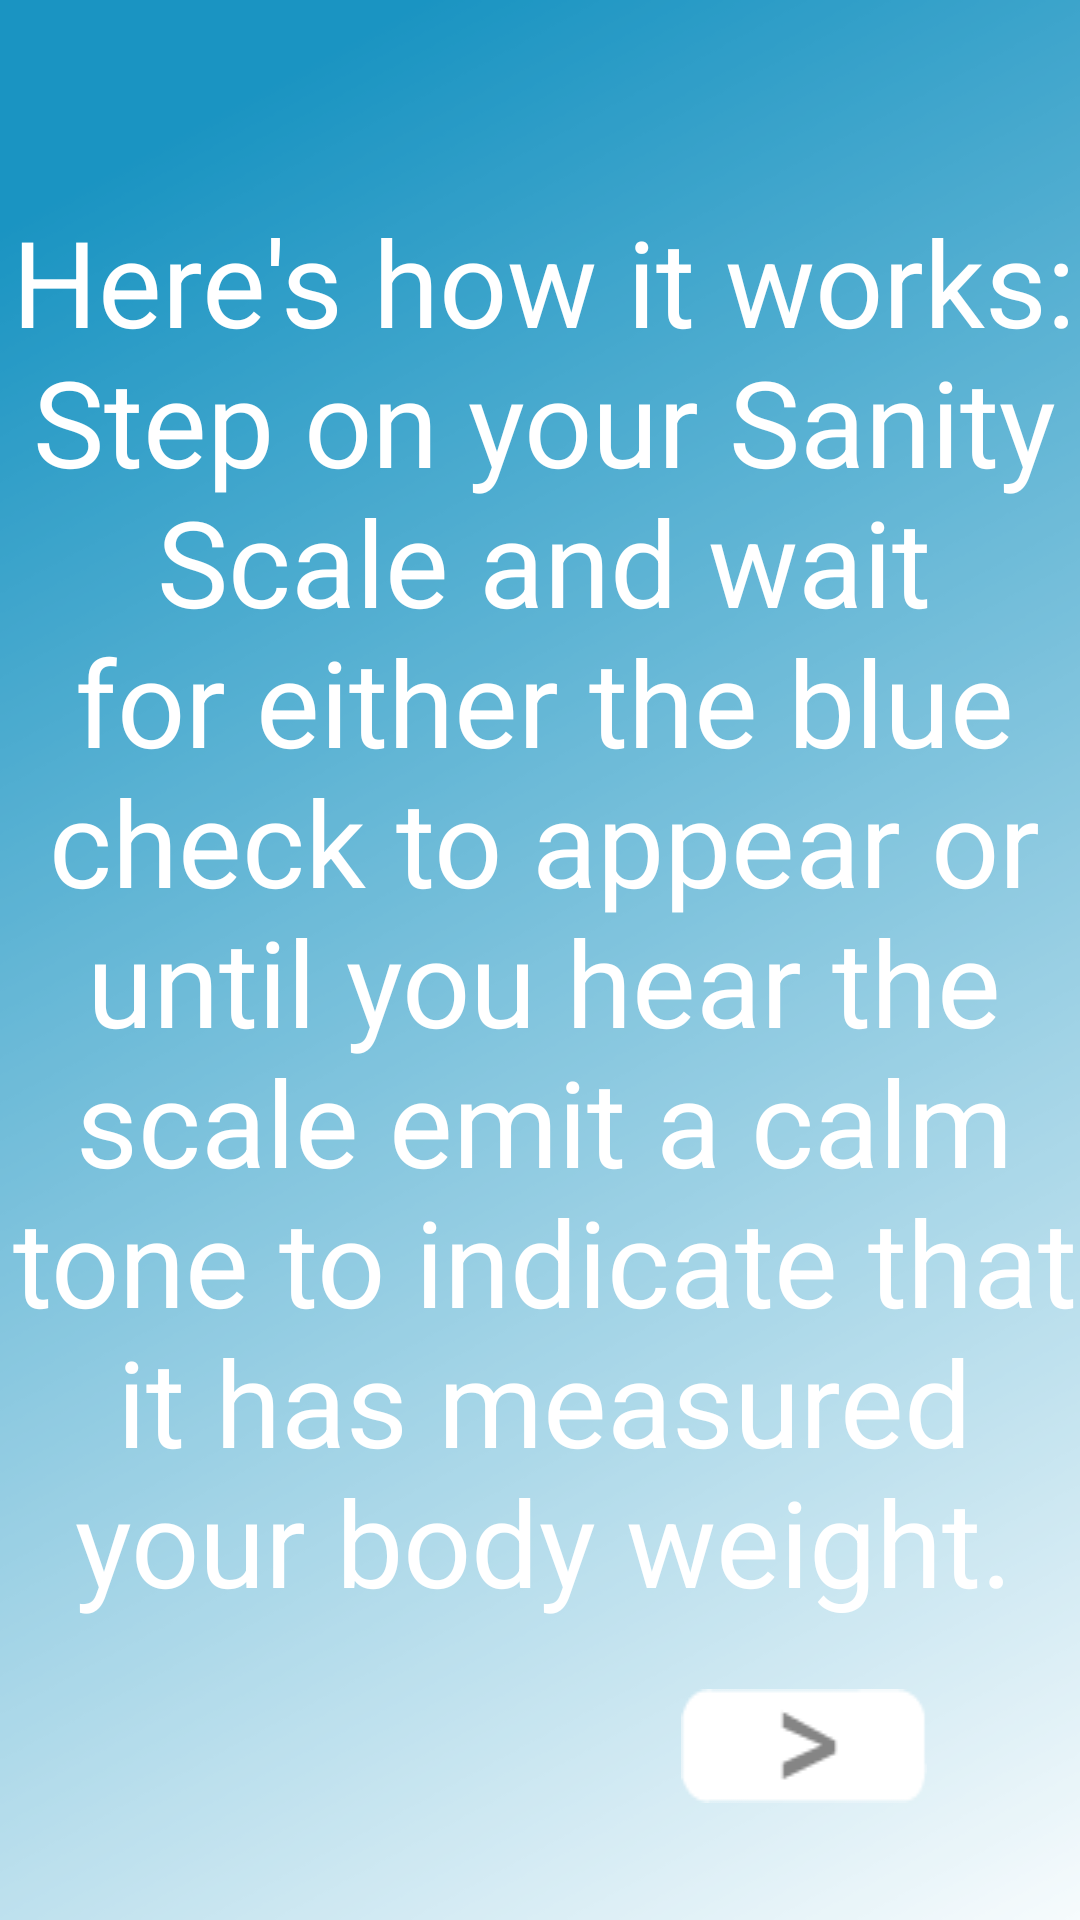

Screen size 1080*1920. Icon name, then its center in pixels as (x=x, y=y):
next: (x=804, y=1746)
